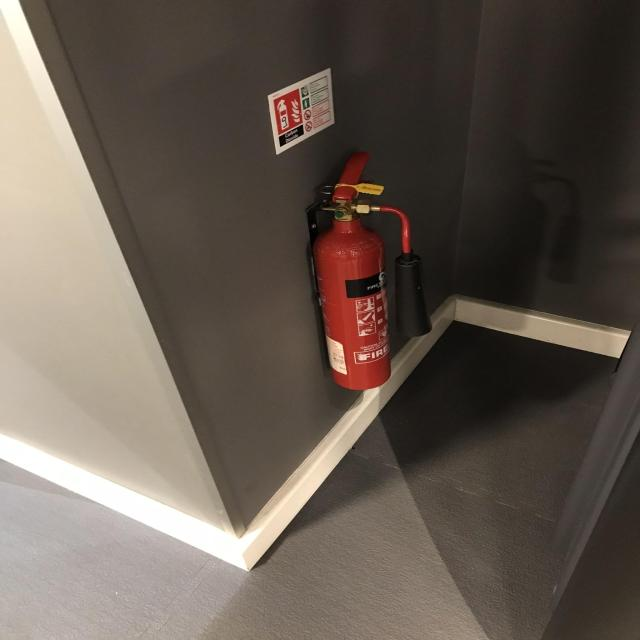fire_extinguisher: (300, 148, 434, 394)
